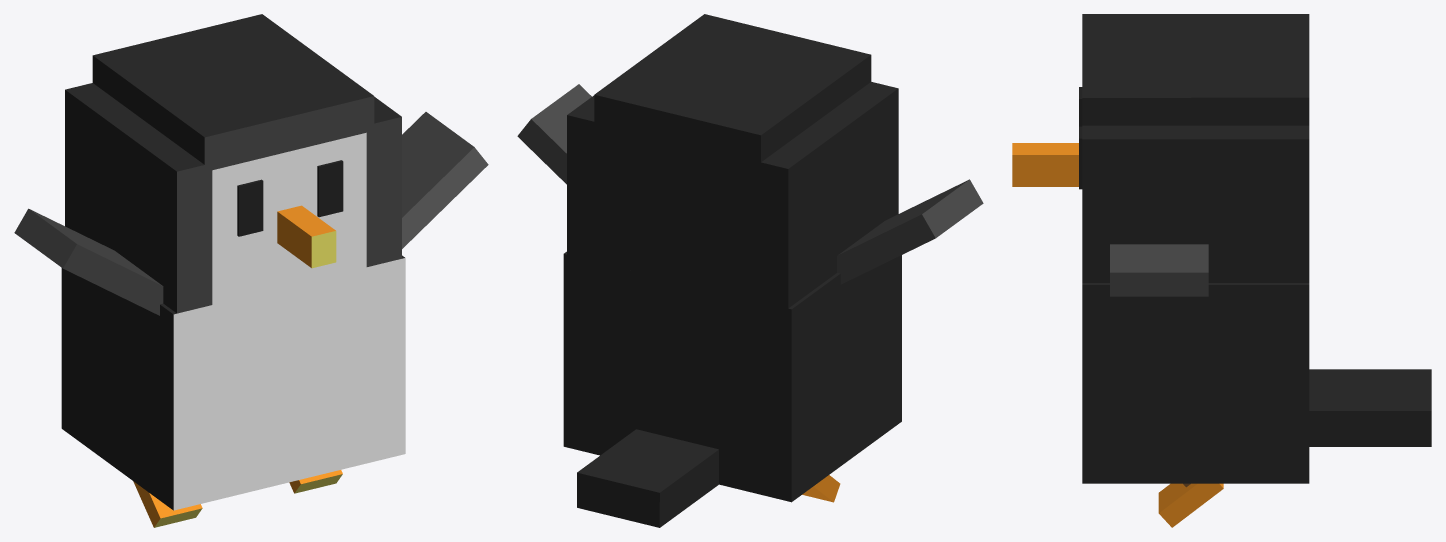
The model's file is Ch_182@Down.FBX.
The picture shows the model from 3 angles, left to right: view 1: azimuth 30°, elevation 25°; view 2: azimuth 150°, elevation 25°; view 3: azimuth 270°, elevation 25°; orthographic projection. The views are drawn at different scales.
Visible parts, largest first — view 1: Ch_182_Head, Ch_182, Ch_182_Wing_R, Ch_182_Wing_L, Ch_182_Eye_01, Ch_182_Leg_L, Ch_182_Leg_R; view 2: Ch_182_Head, Ch_182, Ch_182_Wing_L, Ch_182_Wing_R, Ch_182_Leg_L; view 3: Ch_182_Head, Ch_182, Ch_182_Wing_R, Ch_182_Leg_R.
Part boxes in pixels (x1,y1,x2,y2): Ch_182_Head: (65, 14, 401, 313); Ch_182: (61, 255, 405, 510); Ch_182_Wing_R: (402, 112, 488, 248); Ch_182_Wing_L: (14, 208, 163, 315); Ch_182_Eye_01: (237, 160, 343, 236); Ch_182_Leg_L: (133, 481, 202, 527); Ch_182_Leg_R: (289, 470, 342, 493); Ch_182_Head: (567, 14, 898, 308); Ch_182: (563, 251, 901, 527); Ch_182_Wing_L: (837, 179, 983, 284); Ch_182_Wing_R: (517, 84, 591, 184); Ch_182_Leg_L: (802, 475, 840, 502); Ch_182_Head: (1012, 14, 1309, 282); Ch_182: (1082, 283, 1431, 483); Ch_182_Wing_R: (1110, 244, 1208, 296); Ch_182_Leg_R: (1158, 483, 1223, 527).
Size of the model in its own units: 11.54 by 10.92 by 9.72.
